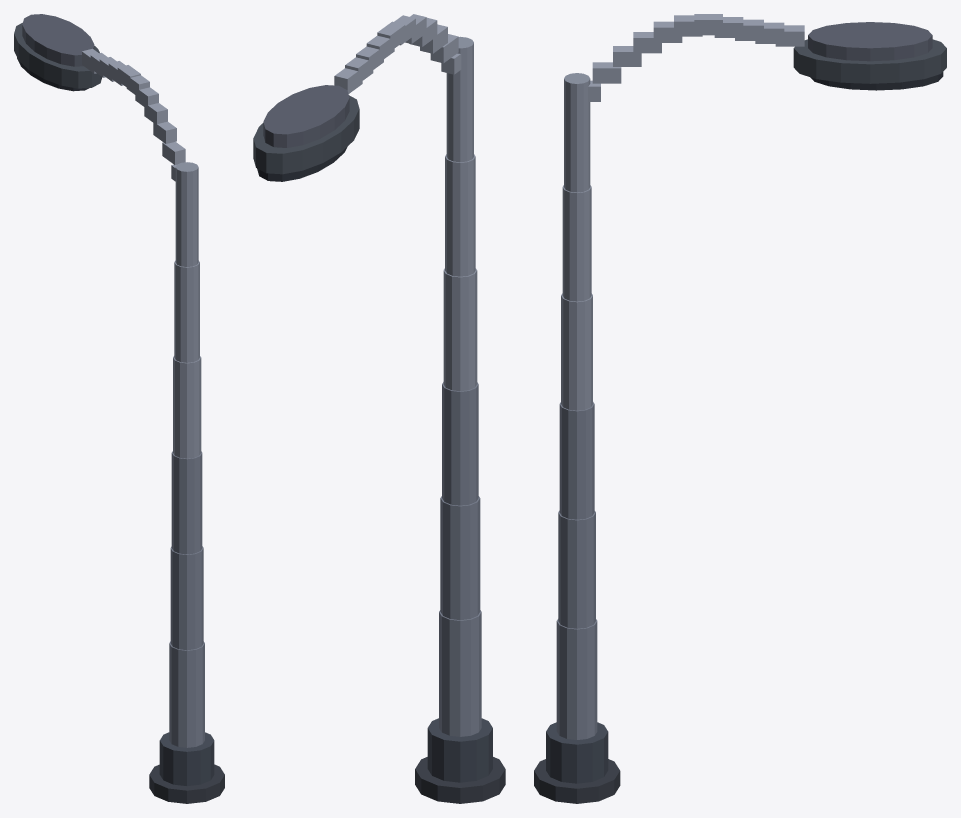
The model's file is lamp.glb.
3 renders of one model, left to right at view 1: azimuth 30°, elevation 25°; view 2: azimuth 150°, elevation 25°; view 3: azimuth 270°, elevation 25°, orthographic. The views are drawn at different scales.
Size of the model in its own units: 0.72 by 7.09 by 3.45.
